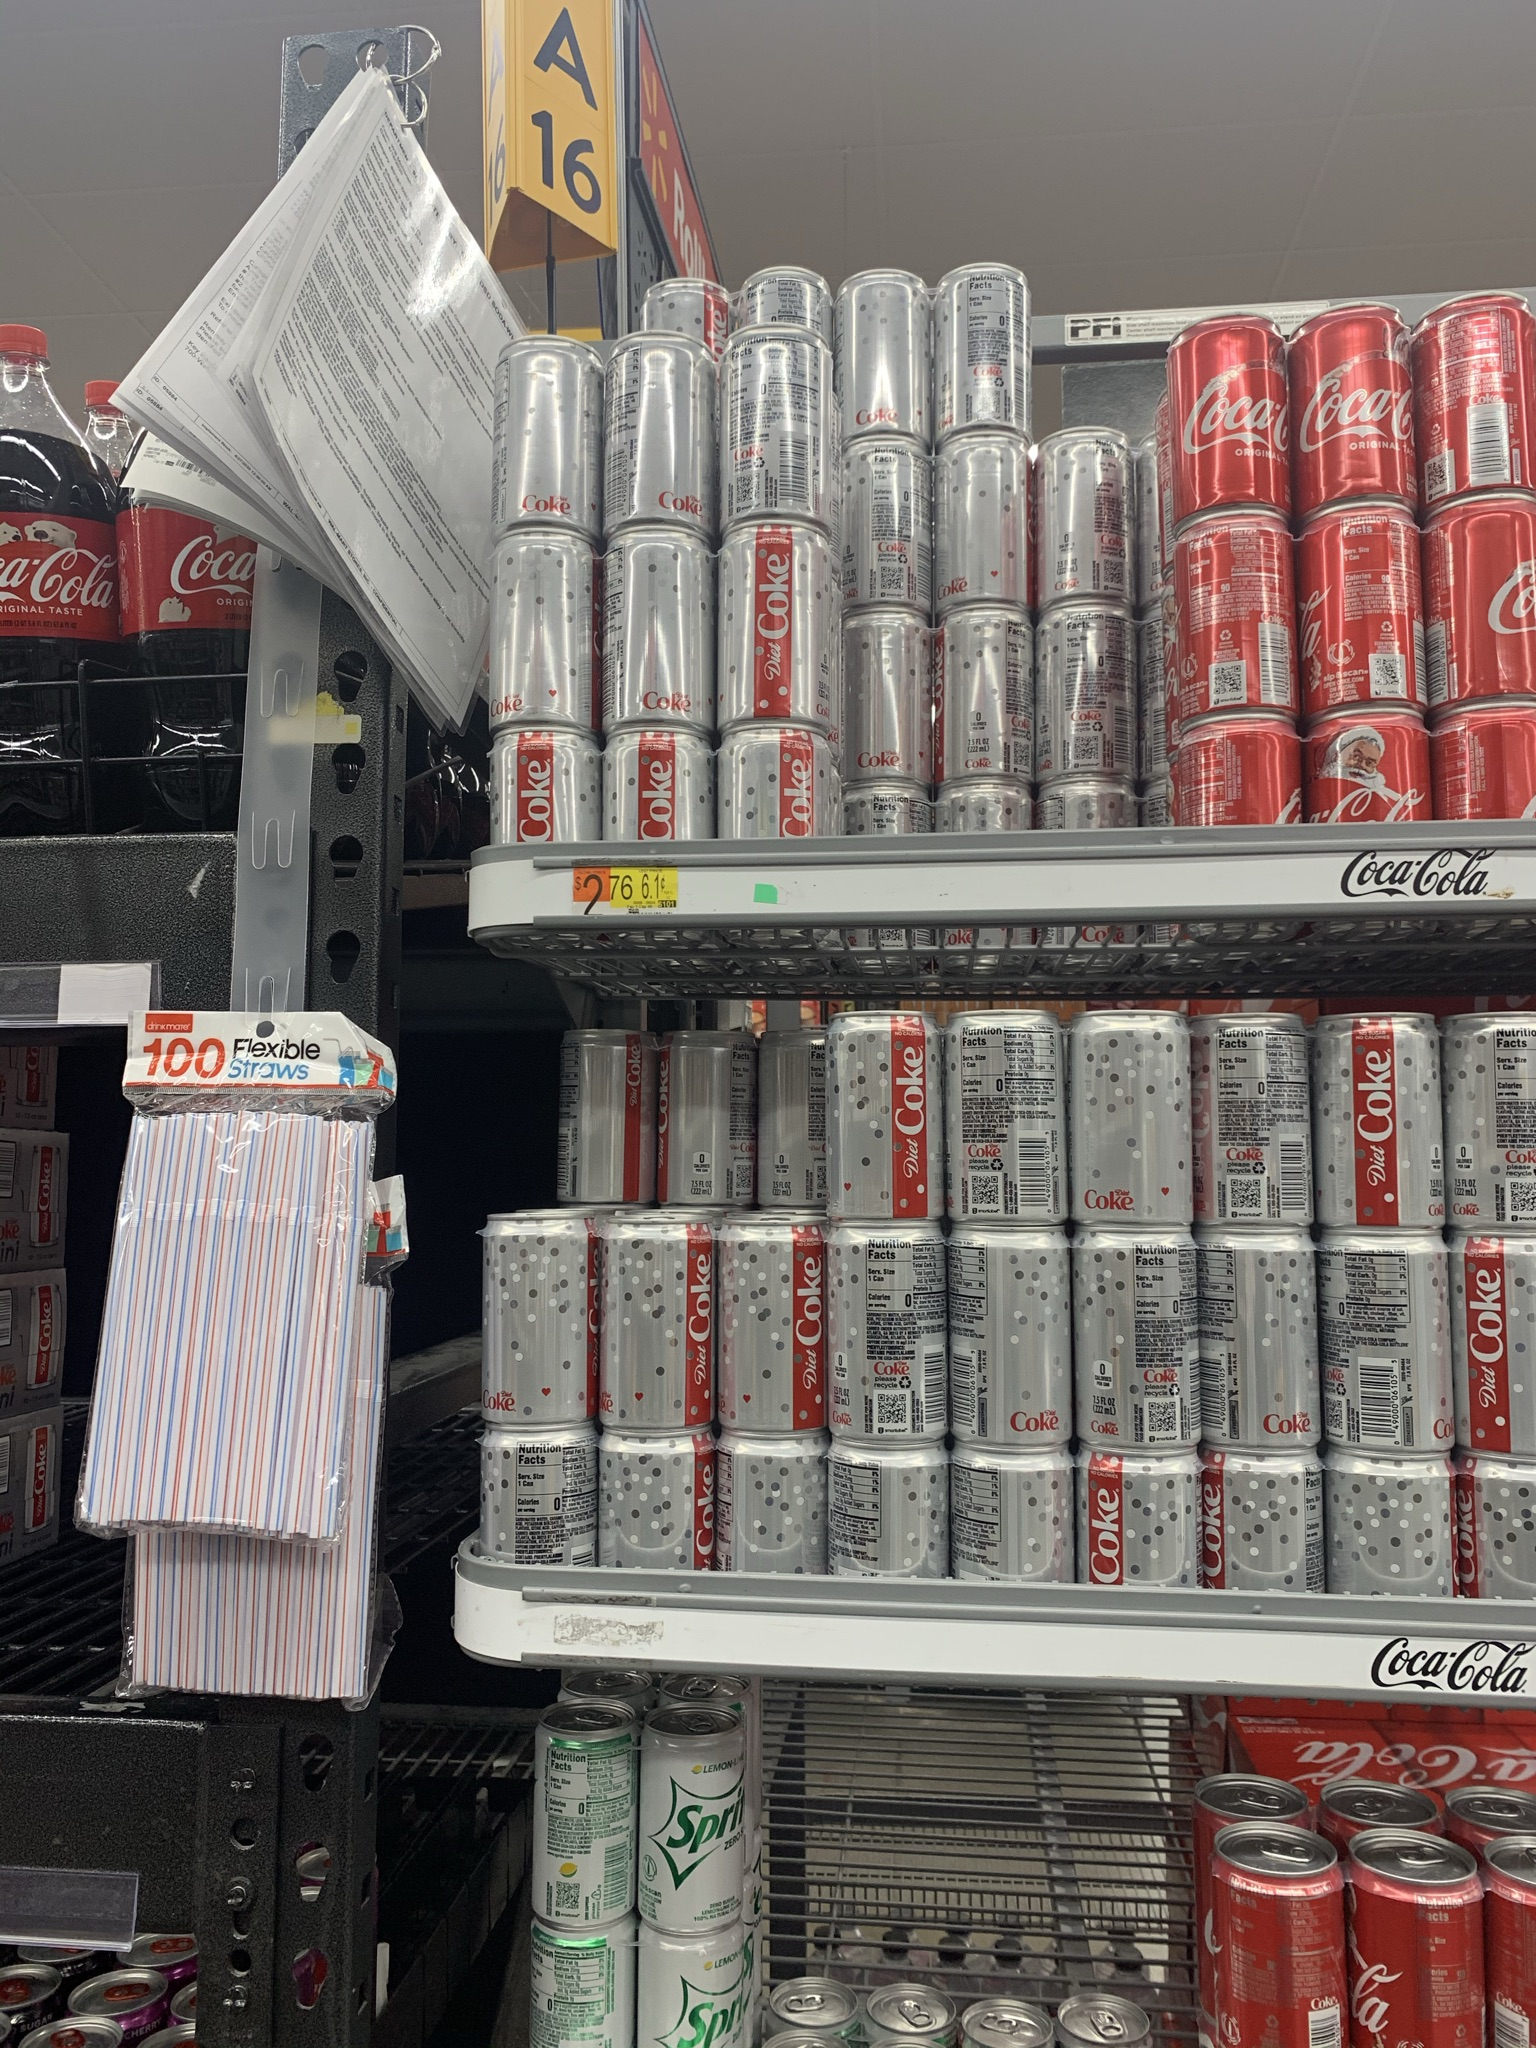coke soda: (1325, 1042, 1536, 1574), (1213, 1796, 1536, 2048), (1307, 319, 1434, 819), (1092, 1030, 1199, 1619), (1171, 335, 1302, 805), (966, 1034, 1070, 1596), (844, 1030, 944, 1596), (1220, 1034, 1317, 1564), (1447, 311, 1534, 811), (487, 1238, 597, 1576), (616, 1234, 712, 1542), (729, 339, 844, 531), (737, 1238, 807, 1551), (502, 556, 603, 729), (502, 356, 602, 529), (616, 552, 716, 716), (952, 461, 1044, 626), (942, 271, 1037, 429), (628, 355, 712, 531), (1052, 631, 1149, 780), (733, 560, 816, 714), (847, 281, 925, 443), (849, 476, 942, 598), (857, 629, 928, 779), (1052, 439, 1121, 589), (957, 647, 1037, 756)
sprite soda: (547, 1721, 752, 2048)
